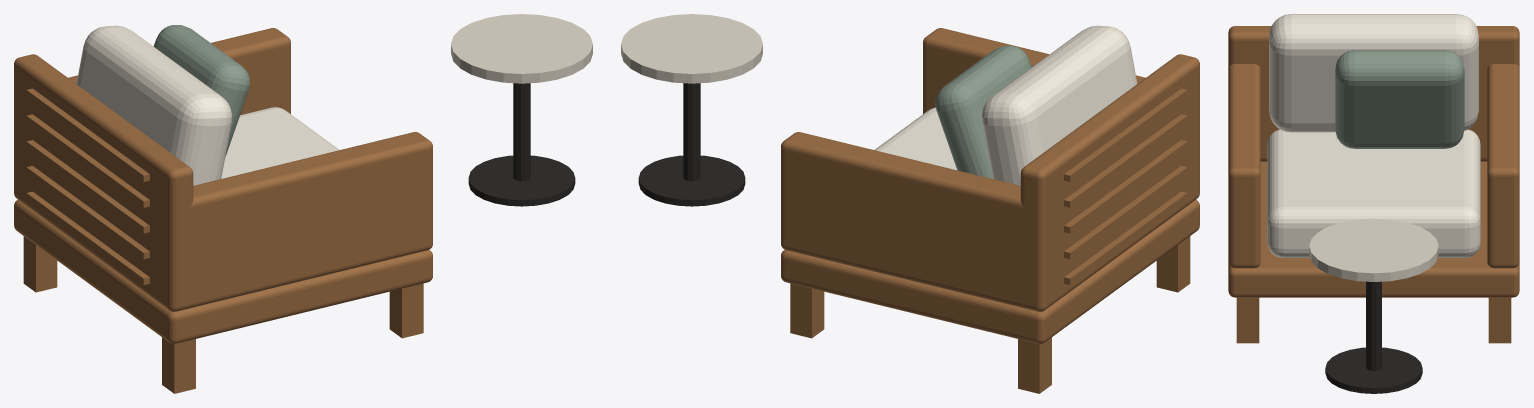
File: balcony_single.glb
3 renders of one model, left to right at view 1: azimuth 30°, elevation 25°; view 2: azimuth 150°, elevation 25°; view 3: azimuth 270°, elevation 25°, orthographic. The views are drawn at different scales.
Visible parts, largest first — view 1: MAT_teak_0, MAT_outdoor_fabric_1, MAT_table_stone_3, MAT_dark_metal_4, MAT_outdoor_accent_2; view 2: MAT_teak_0, MAT_outdoor_fabric_1, MAT_table_stone_3, MAT_outdoor_accent_2, MAT_dark_metal_4; view 3: MAT_outdoor_fabric_1, MAT_teak_0, MAT_outdoor_accent_2, MAT_table_stone_3, MAT_dark_metal_4.
Boxes of the visible parts, box(x1,y1,x2,y2) form: MAT_teak_0: box(14, 28, 432, 393); MAT_outdoor_fabric_1: box(76, 25, 339, 185); MAT_table_stone_3: box(451, 14, 592, 83); MAT_dark_metal_4: box(468, 83, 575, 206); MAT_outdoor_accent_2: box(153, 25, 250, 156); MAT_teak_0: box(781, 28, 1199, 393); MAT_outdoor_fabric_1: box(874, 25, 1137, 185); MAT_table_stone_3: box(621, 14, 762, 83); MAT_outdoor_accent_2: box(935, 45, 1031, 178); MAT_dark_metal_4: box(638, 83, 745, 206); MAT_outdoor_fabric_1: box(1267, 14, 1480, 257); MAT_teak_0: box(1228, 26, 1519, 343); MAT_outdoor_accent_2: box(1335, 50, 1464, 148); MAT_table_stone_3: box(1309, 218, 1438, 281); MAT_dark_metal_4: box(1325, 281, 1422, 393).
Size of the model in its own units: 1.62 by 0.8199 by 0.9.
